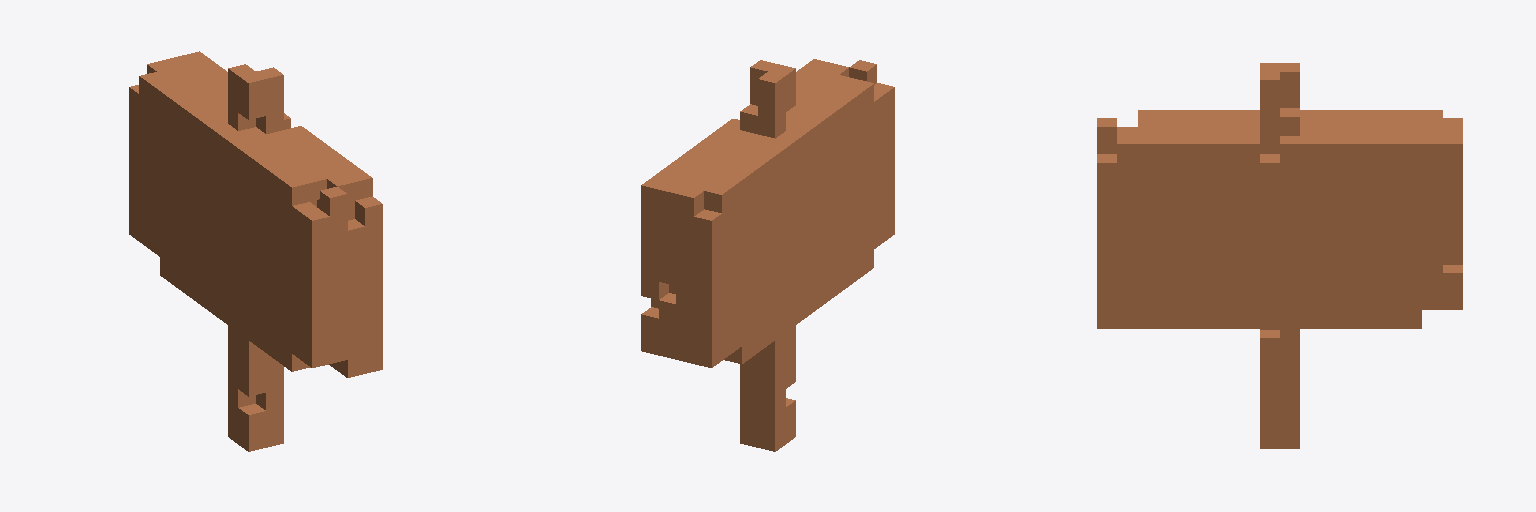
3 views of the same model, side by side, from view 1: azimuth 30°, elevation 25°; view 2: azimuth 150°, elevation 25°; view 3: azimuth 270°, elevation 25° (orthographic).
Visible parts, largest first — view 1: Board_Sign_Empty; view 2: Board_Sign_Empty; view 3: Board_Sign_Empty.
Boxes of the visible parts, <box> form: Board_Sign_Empty: <box>129,51,382,451</box>; Board_Sign_Empty: <box>641,59,894,451</box>; Board_Sign_Empty: <box>1097,63,1462,448</box>.
Bounding box in the file's own units: 0.4 × 2 × 1.8.
1 materials, 1 textured.